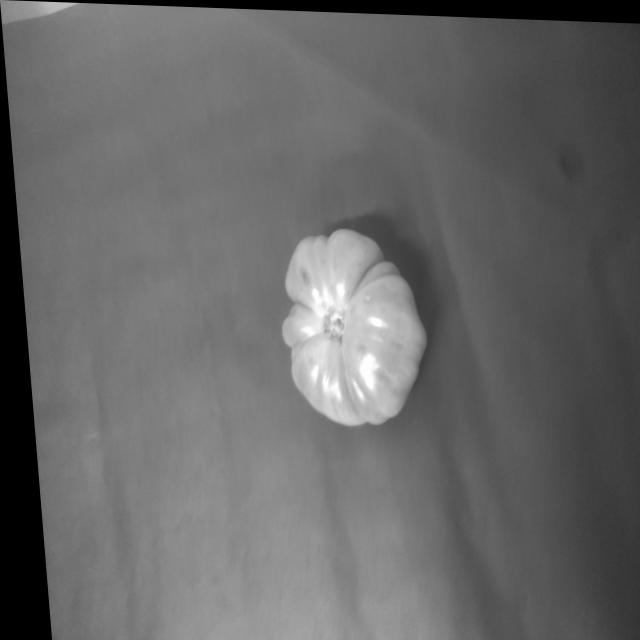yesil: (251, 204, 436, 458)
